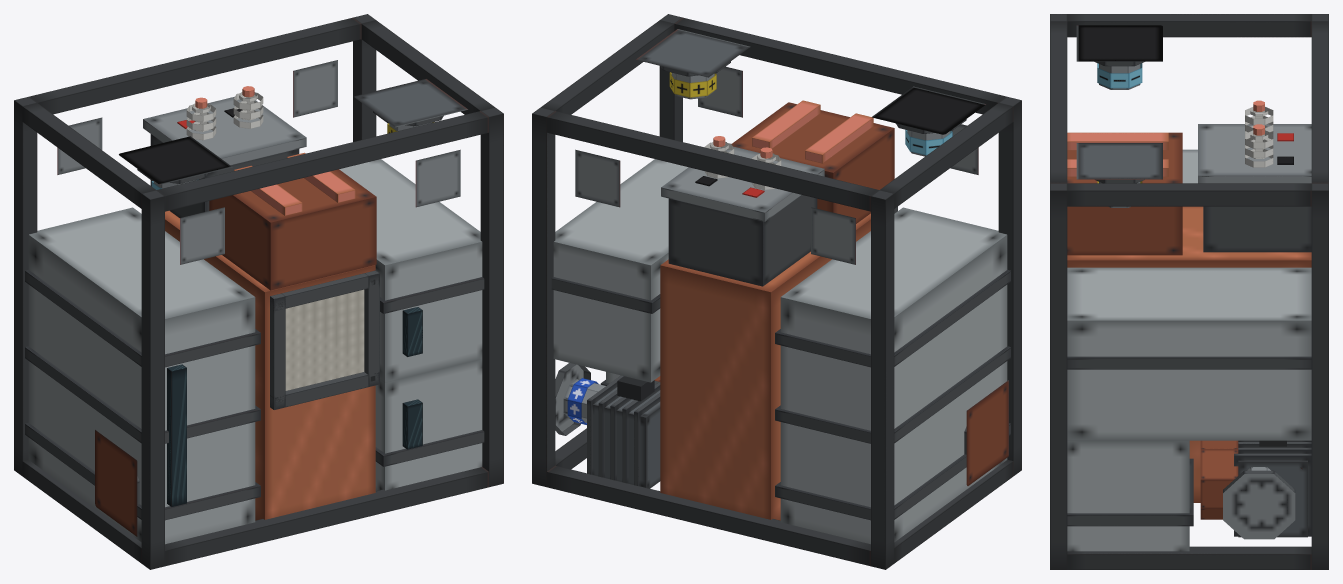
The model's file is membrane_electrolyzer.obj.
3 renders of one model, left to right at view 1: azimuth 30°, elevation 25°; view 2: azimuth 150°, elevation 25°; view 3: azimuth 270°, elevation 25°, orthographic. The views are drawn at different scales.
Visible parts, largest first — view 1: membrane_electrolyzer; view 2: membrane_electrolyzer; view 3: membrane_electrolyzer.
Boxes of the visible parts, bbox=[...] form: membrane_electrolyzer: bbox=[14, 14, 503, 569]; membrane_electrolyzer: bbox=[532, 14, 1021, 569]; membrane_electrolyzer: bbox=[1050, 14, 1328, 569].
Size of the model in its own units: 3 by 3 by 2.
